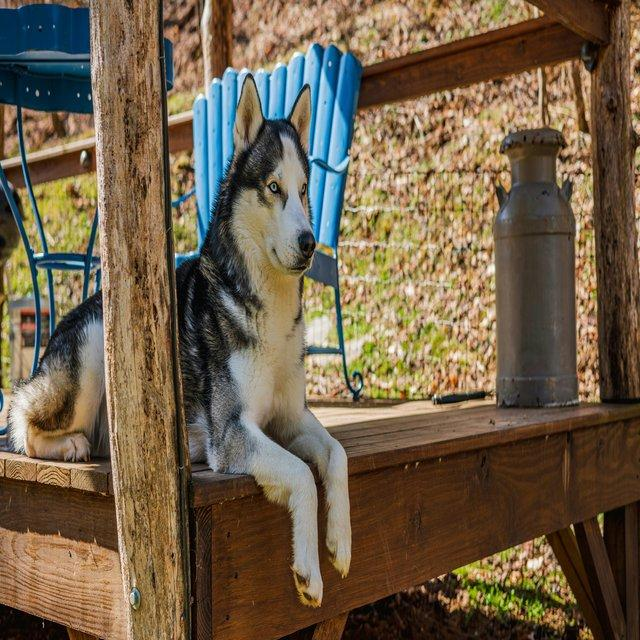husky: (5, 72, 353, 608)
